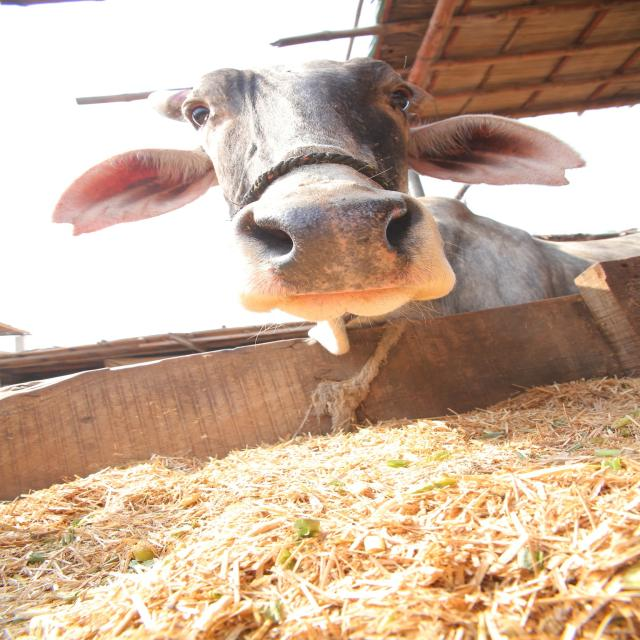muzzles: (235, 195, 439, 298)
